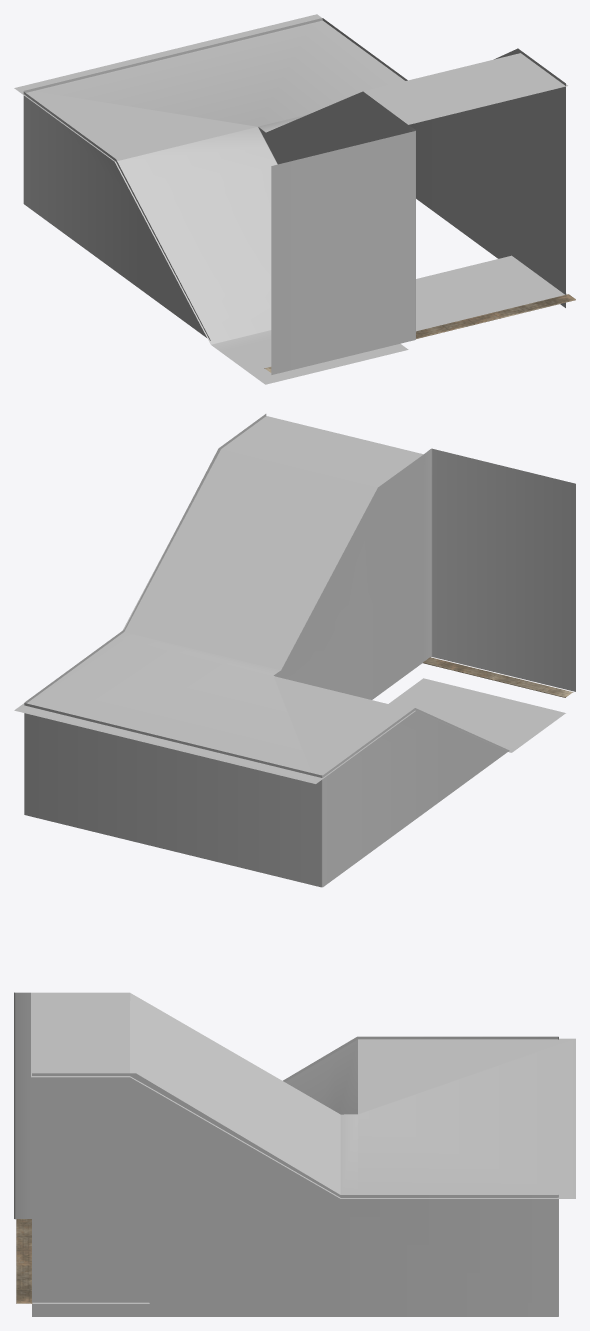
File: stairwell_top.FBX
3 renders of one model, top to bottom at view 1: azimuth 30°, elevation 25°; view 2: azimuth 150°, elevation 25°; view 3: azimuth 270°, elevation 25°, orthographic. The views are drawn at different scales.
Parts seen in each view (by area): view 1: stairwell_top; view 2: stairwell_top; view 3: stairwell_top.
Part boxes in pixels (x1,y1,x2,y2): stairwell_top: [14, 14, 575, 384]; stairwell_top: [14, 414, 575, 887]; stairwell_top: [14, 992, 575, 1316].
Size of the model in its own units: 465 by 331 by 683.
